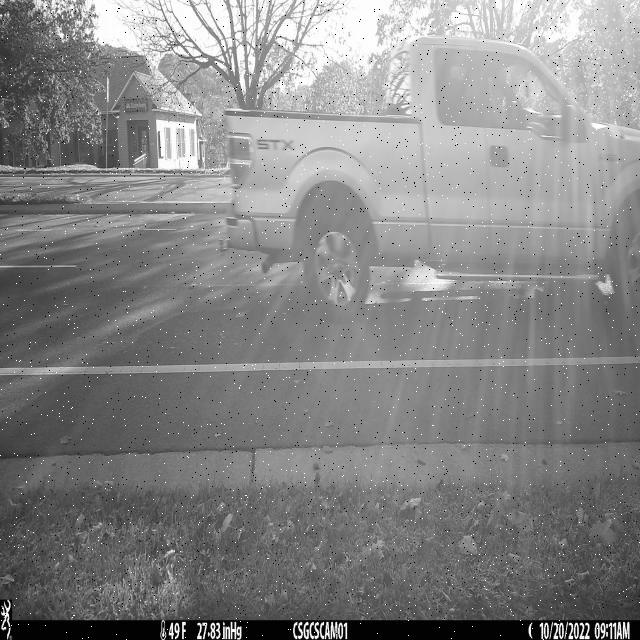Pickup: (216, 36, 640, 326)
